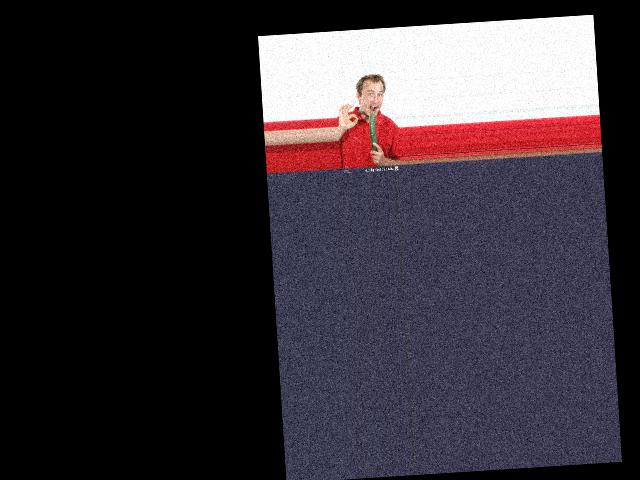cucumber: (369, 112, 377, 151)
